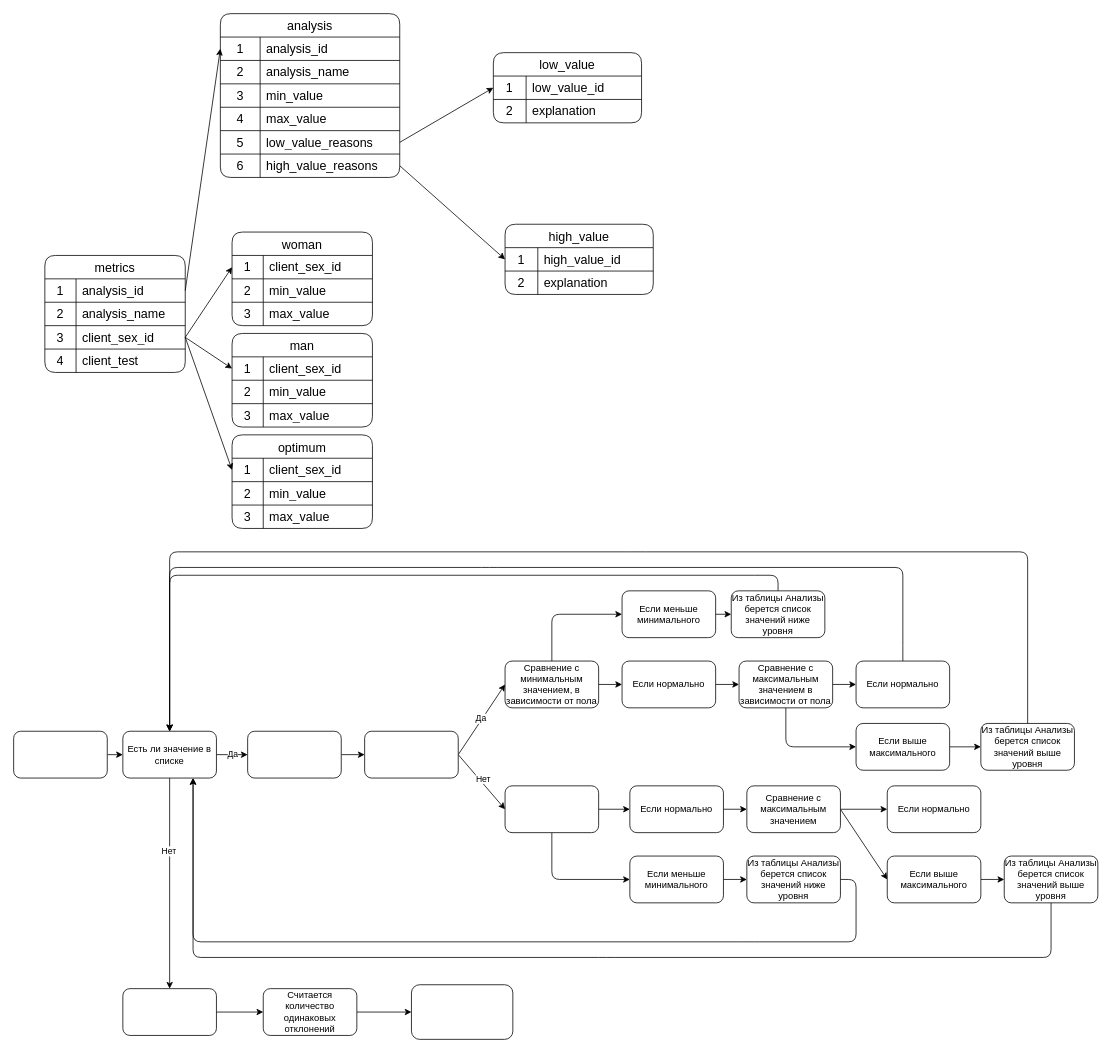
Image size: 1112x1053. Some labels were removed from this diagram. The centre of each missing label's shape, as x and y in pixels:
"Берется значение" belongs at (x=294, y=754).
"Берется список со всеми отклонениями" belongs at (x=169, y=1011).
"Ввод данных (пол, данные теста)" belongs at (x=60, y=754).
"Выводится Результат, от большего количества к меньшему" belongs at (x=462, y=1011).
"Есть зависимость от пола или нет?" belongs at (x=411, y=754).
"Сравнение с минимальным значением" belongs at (x=551, y=809).
